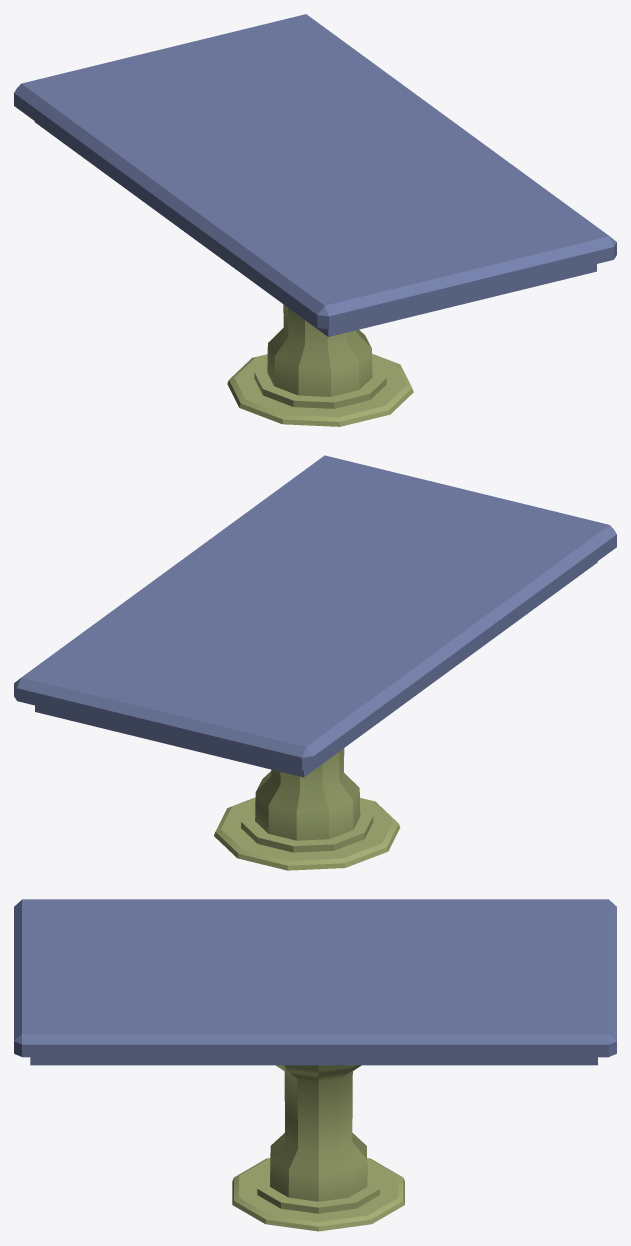
The model's file is Table.fbx.
The picture shows the model from 3 angles, top to bottom: view 1: azimuth 30°, elevation 25°; view 2: azimuth 150°, elevation 25°; view 3: azimuth 270°, elevation 25°; orthographic projection. The views are drawn at different scales.
Visible parts, largest first — view 1: pasted__pCube3; view 2: pasted__pCube3; view 3: pasted__pCube3.
Part boxes in pixels (<box>): pasted__pCube3: <box>14,14,616,426</box>; pasted__pCube3: <box>14,455,616,870</box>; pasted__pCube3: <box>14,899,616,1231</box>.
Bounding box in the file's own units: 5.2 × 3.83 × 9.37.
